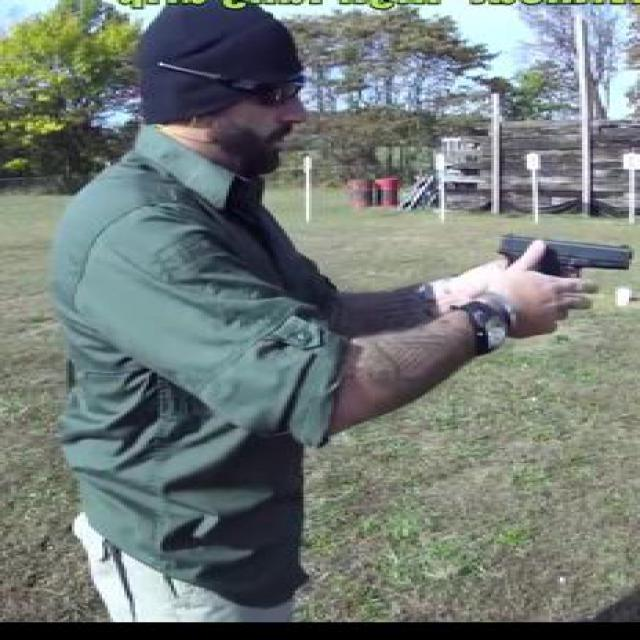Gun: (491, 230, 637, 334)
